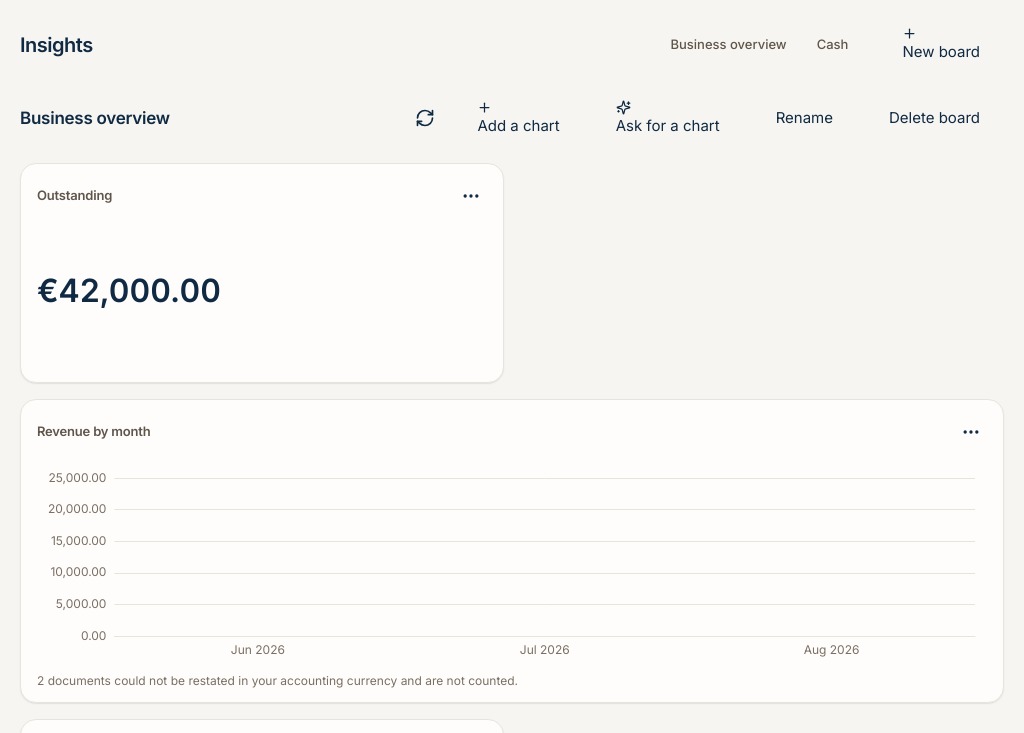
the gallery › closing it without picking pins nothing
The image size is (1024, 733).
Check: the text "€42,000.00" is shown, box x1=37 y1=273 x2=221 y2=309
Click the button "Add a chart": [518, 118] box x1=453 y1=90 x2=584 y2=147
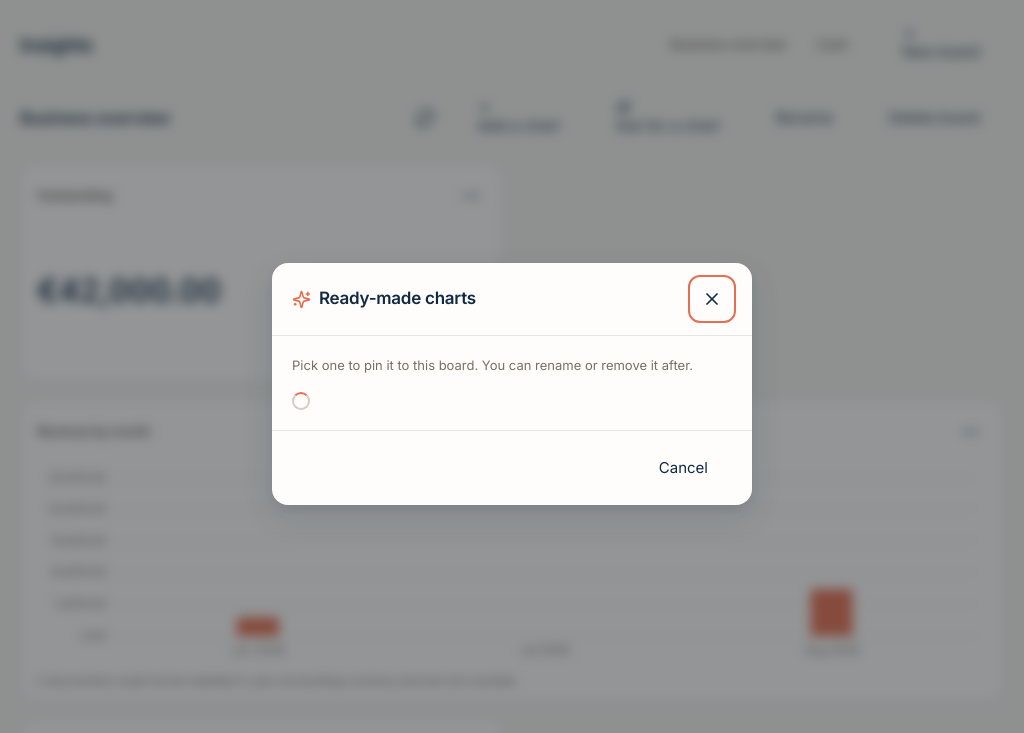
Click the button named "Close": [712, 299] box x1=692 y1=279 x2=732 y2=319
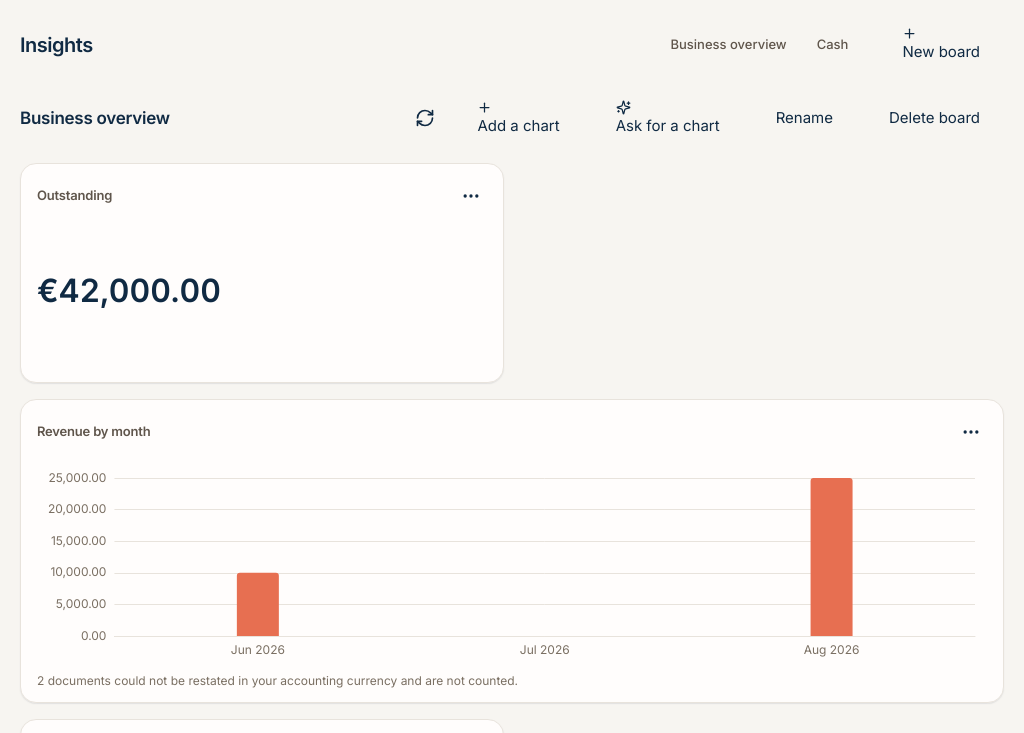
Check: the dialog is gone
